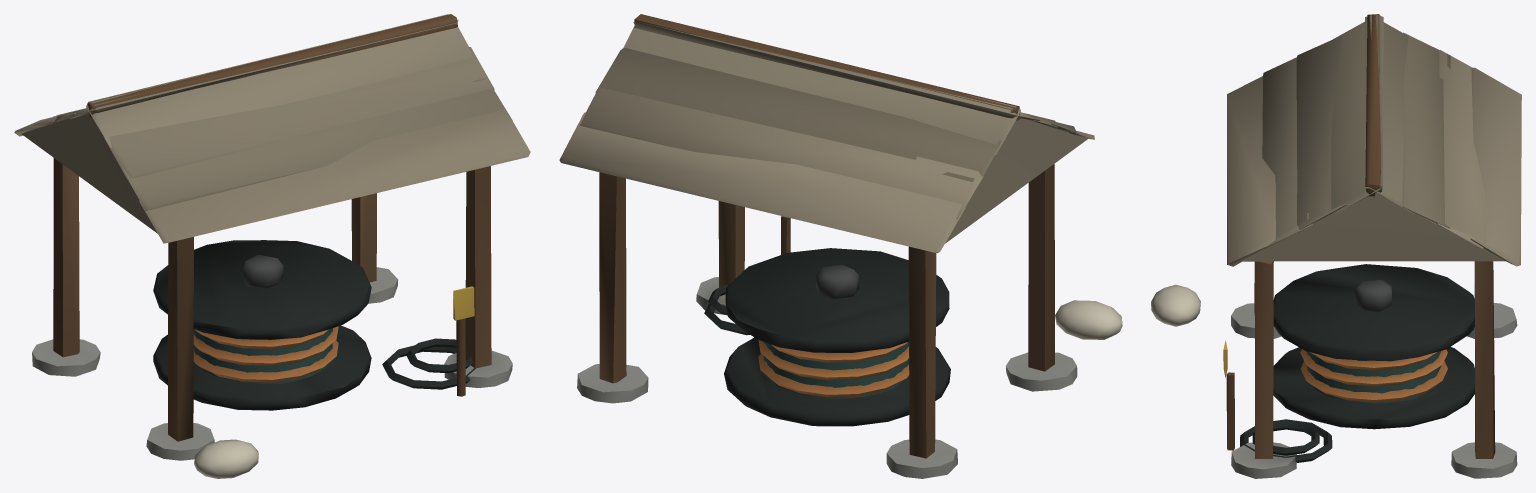
File: spool_shed_a_lod1.glb
3 renders of one model, left to right at view 1: azimuth 30°, elevation 25°; view 2: azimuth 150°, elevation 25°; view 3: azimuth 270°, elevation 25°, orthographic. The views are drawn at different scales.
Parts seen in each view (by area): view 1: Surface.001; view 2: Surface.001; view 3: Surface.001.
Part boxes in pixels (<box>): Surface.001: <box>14,14,530,478</box>; Surface.001: <box>559,14,1122,478</box>; Surface.001: <box>1151,14,1521,478</box>.
Bounding box in the file's own units: 3.71 × 2.97 × 3.37.
